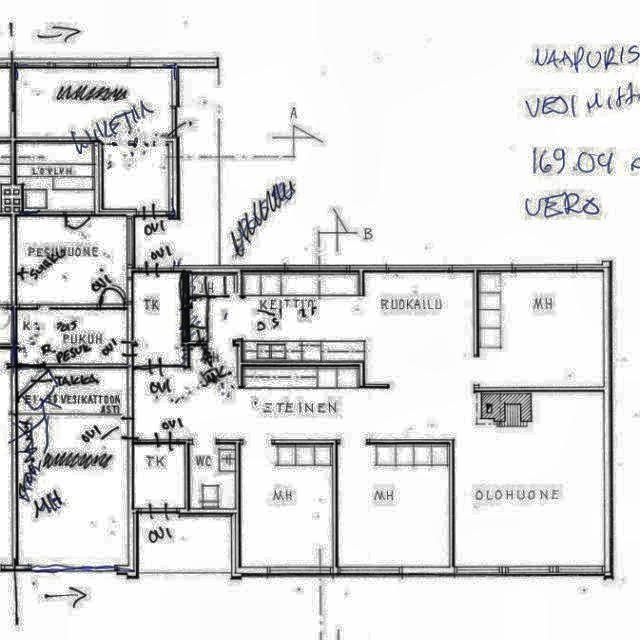room: (17, 367, 129, 565), (478, 270, 604, 388), (337, 445, 450, 567), (240, 444, 333, 567), (17, 217, 128, 305), (17, 309, 128, 364), (16, 142, 94, 212), (133, 443, 186, 509), (189, 444, 235, 509)
